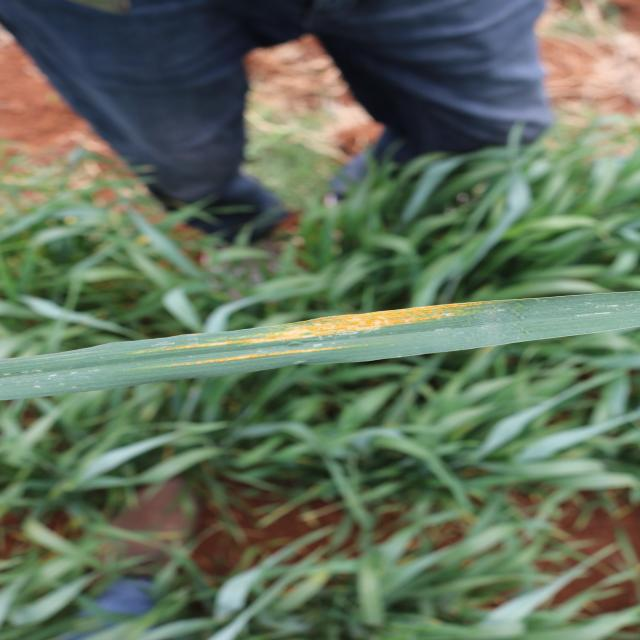Stripe Rust: (246, 296, 518, 337), (175, 340, 354, 374)
